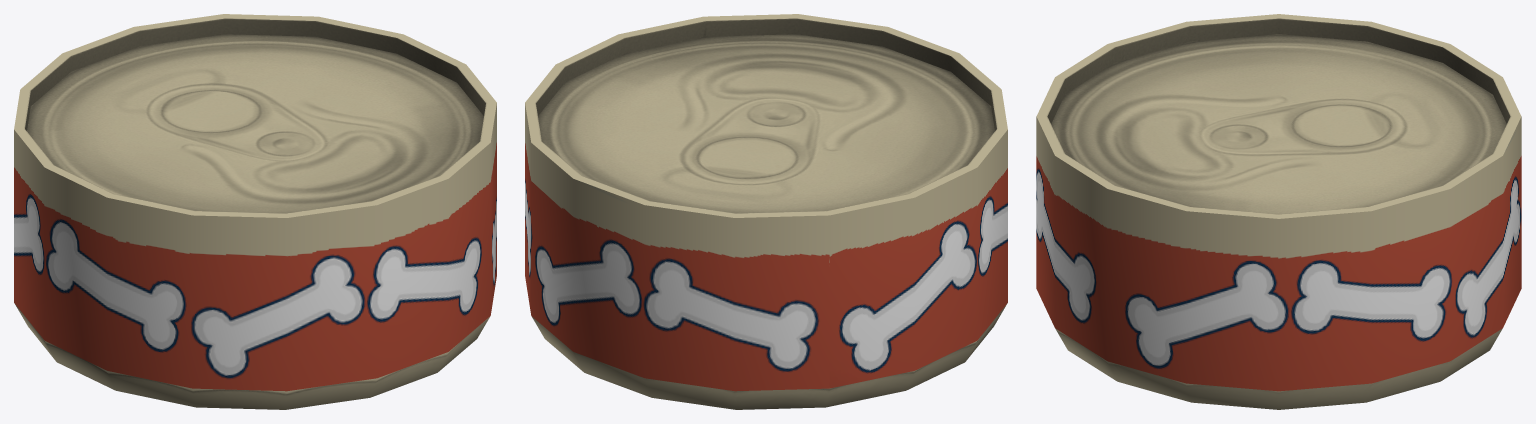
Rendered from Can.fbx.
3 views of the same model, side by side, from view 1: azimuth 30°, elevation 25°; view 2: azimuth 150°, elevation 25°; view 3: azimuth 270°, elevation 25° (orthographic).
Visible parts, largest first — view 1: Can:pCylinder1; view 2: Can:pCylinder1; view 3: Can:pCylinder1.
Boxes of the visible parts, x1=… form: Can:pCylinder1: x1=14, y1=14, x2=496, y2=409; Can:pCylinder1: x1=525, y1=14, x2=1007, y2=409; Can:pCylinder1: x1=1036, y1=14, x2=1521, y2=409.
Bounding box in the file's own units: 2.48 × 1.11 × 2.48.
